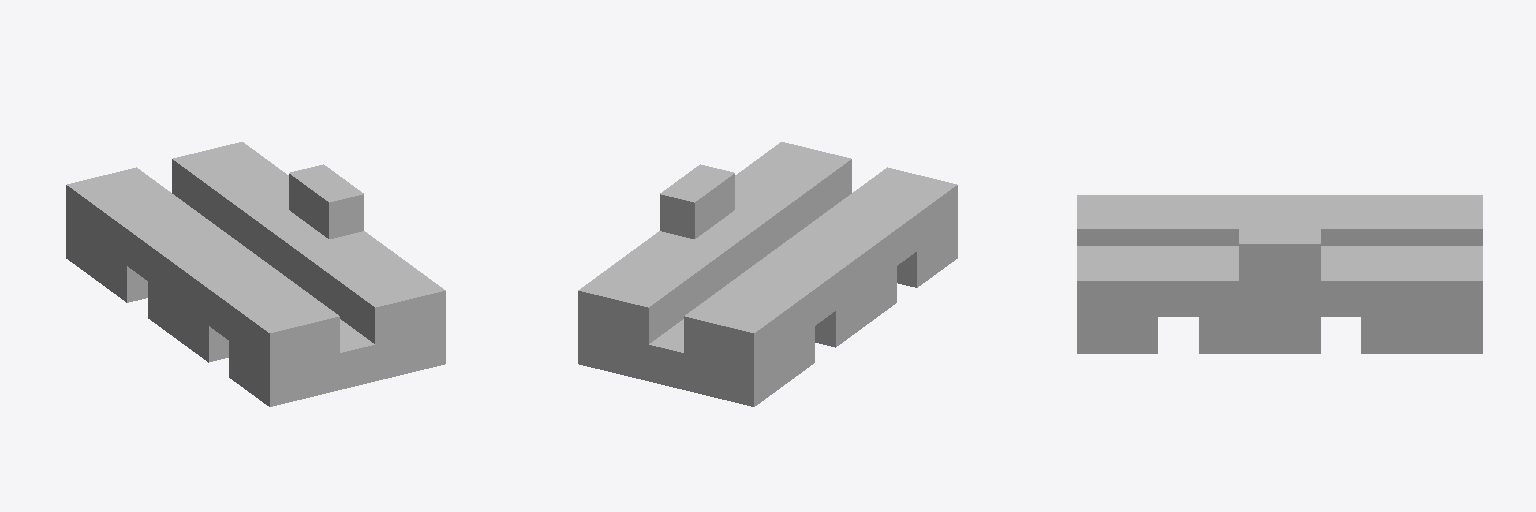
Rendered from Trap Door 1.obj.
3 views of the same model, side by side, from view 1: azimuth 30°, elevation 25°; view 2: azimuth 150°, elevation 25°; view 3: azimuth 270°, elevation 25° (orthographic).
Size of the model in its own units: 5 by 3 by 10.